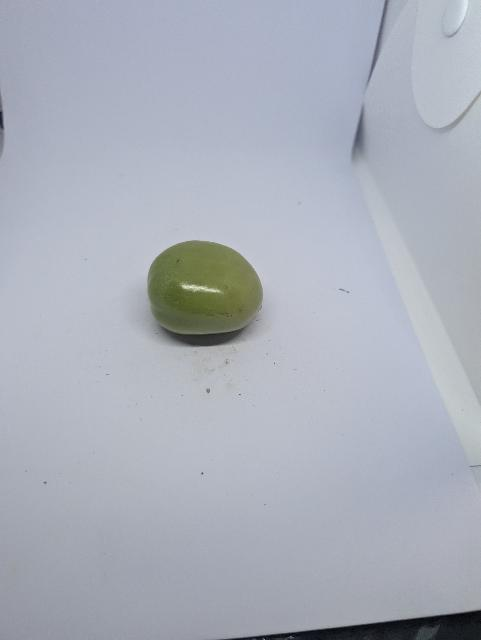green: (146, 238, 266, 338)
